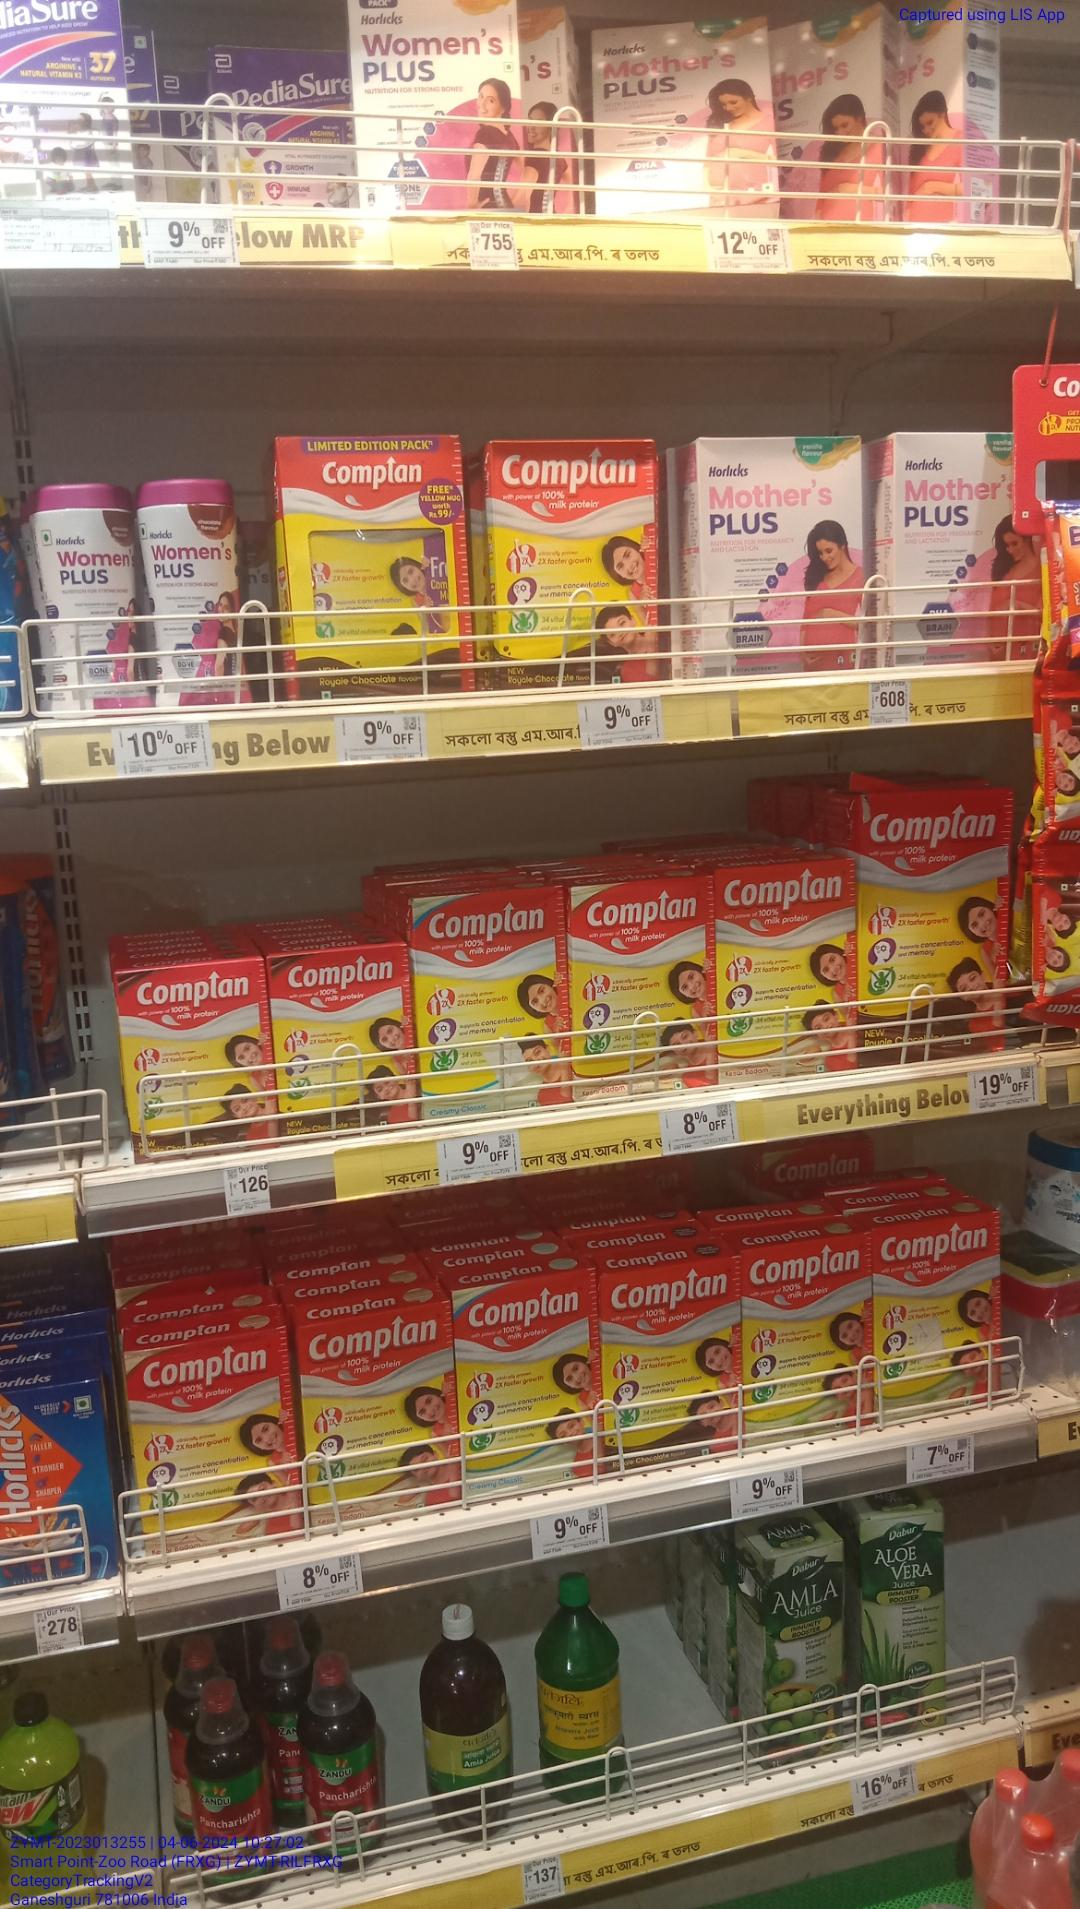COMPLAN_PISTA_BADAM_500_GMS_PACK: (743, 1226, 870, 1441), (874, 1206, 1000, 1421)
